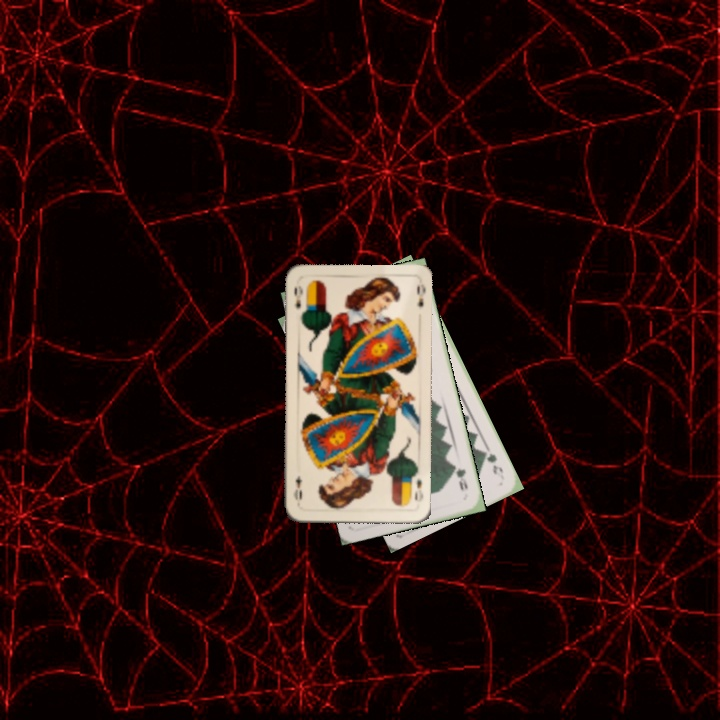EO: (410, 475, 426, 505), (290, 281, 305, 311)
G9: (479, 443, 506, 477), (450, 461, 470, 493)
